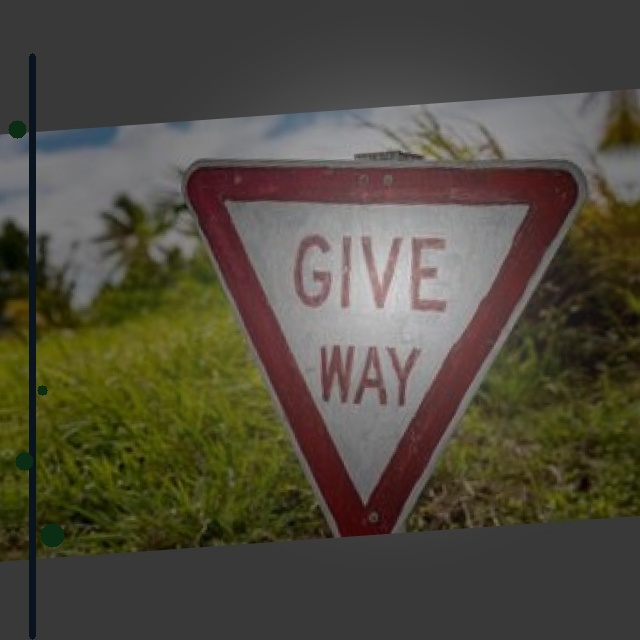Give_Way: (184, 140, 600, 528)
